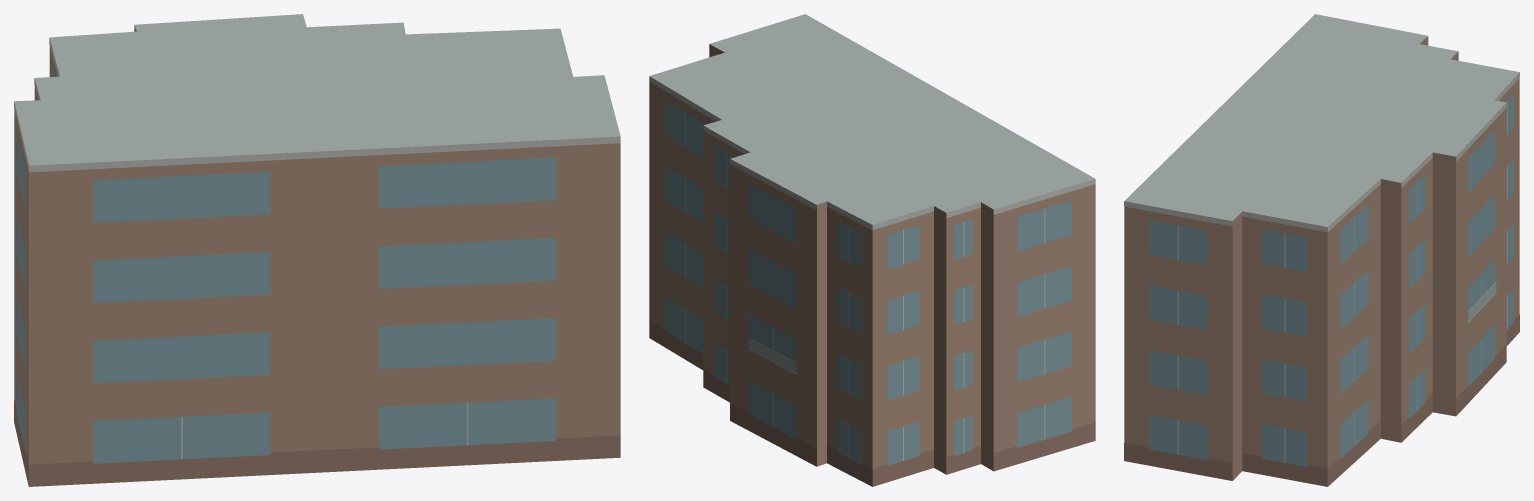
Rendered from survey-upis-32696493.glb.
3 views of the same model, side by side, from view 1: azimuth 30°, elevation 25°; view 2: azimuth 150°, elevation 25°; view 3: azimuth 270°, elevation 25° (orthographic). The views are drawn at different scales.
Parts seen in each view (by area): view 1: survey-upis-32696493.tmp; view 2: survey-upis-32696493.tmp; view 3: survey-upis-32696493.tmp.
Part boxes in pixels (x1,y1,x2,y2): survey-upis-32696493.tmp: (14, 14, 620, 486); survey-upis-32696493.tmp: (649, 14, 1095, 486); survey-upis-32696493.tmp: (1124, 14, 1519, 486).
Bounding box in the file's own units: 20.93 × 11.9 × 16.43.
